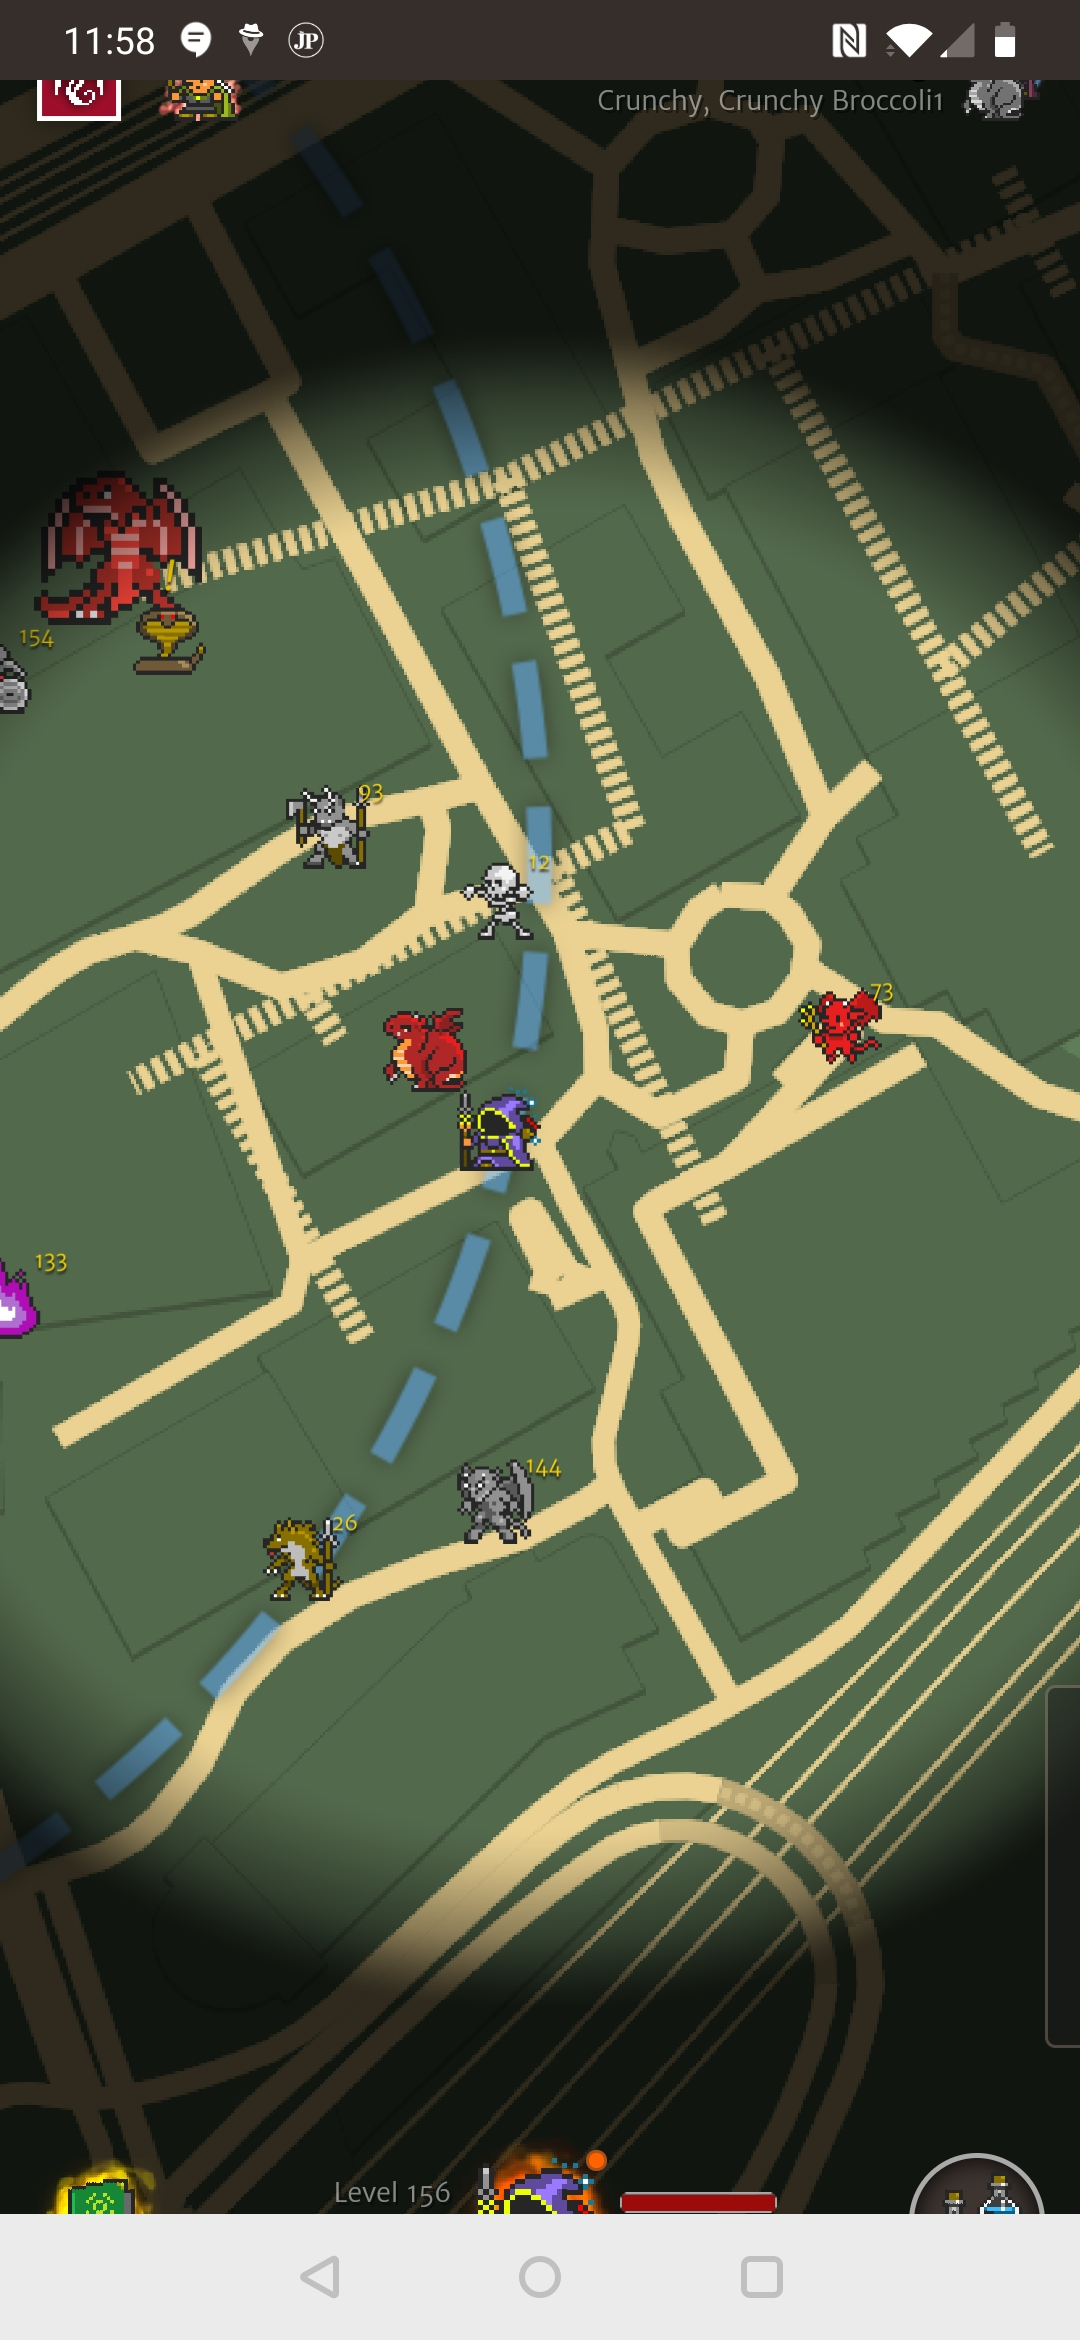monster: (453, 1447, 553, 1568), (460, 861, 560, 978), (277, 782, 388, 885), (795, 978, 898, 1075), (257, 1513, 357, 1606)
player: (450, 1082, 553, 1185)
